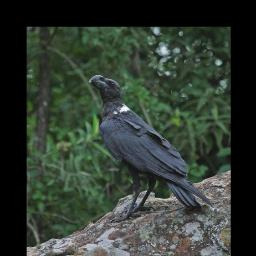Crow: (86, 72, 212, 223)
